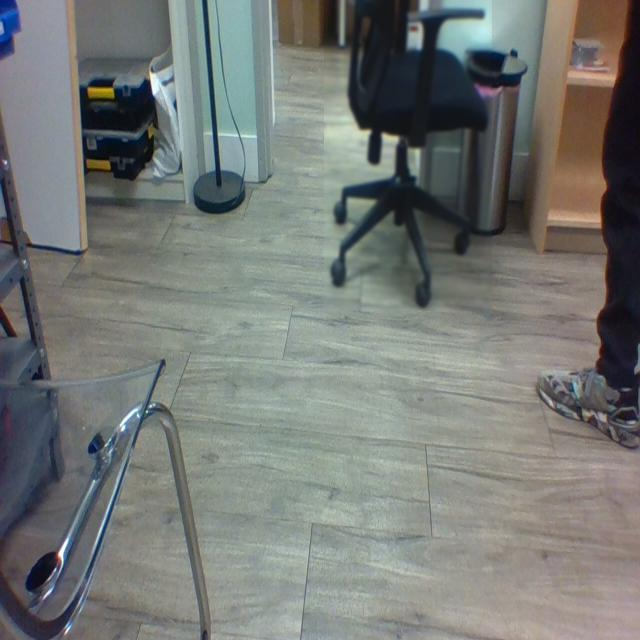chair: (323, 0, 492, 312)
